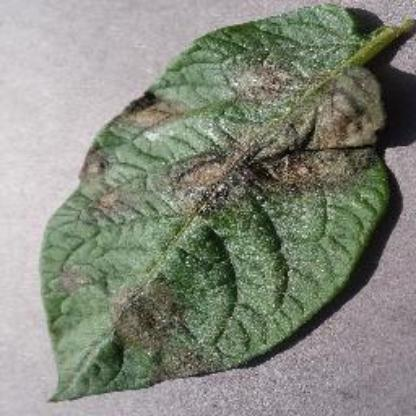Late-Blight: (26, 2, 402, 400)
